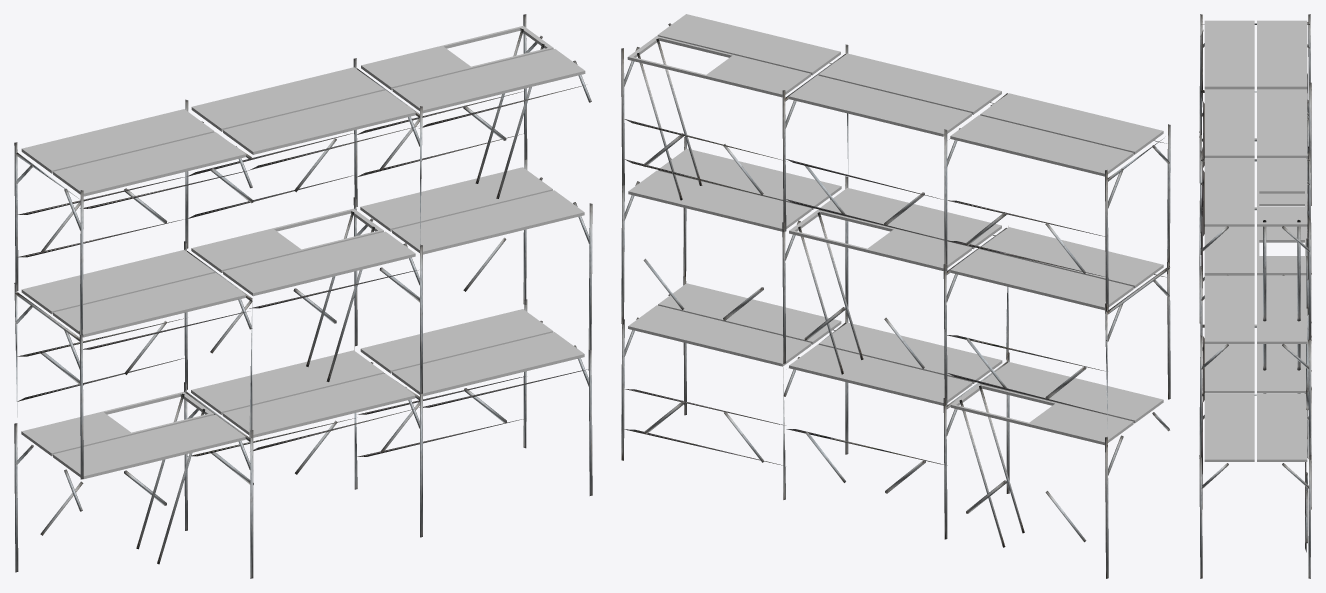
Rendered from scaffolding_100.fbx.
3 renders of one model, left to right at view 1: azimuth 30°, elevation 25°; view 2: azimuth 150°, elevation 25°; view 3: azimuth 270°, elevation 25°, orthographic. The views are drawn at different scales.
Parts seen in each view (by area): view 1: floor700, frame700, ladders700; view 2: floor700, frame700, ladders700; view 3: floor700, frame700, ladders700.
Boxes of the visible parts, x1,y1,x2,y2 form: floor700: (21,26,585,479); frame700: (14,14,592,578); ladders700: (136,29,544,564); floor700: (627,14,1163,445); frame700: (621,23,1170,578); ladders700: (637,38,1024,547); floor700: (1204,20,1307,461); frame700: (1199,14,1311,578); ladders700: (1263,220,1300,393).
Bounding box in the file's own units: 15 × 12.13 × 3.41.
